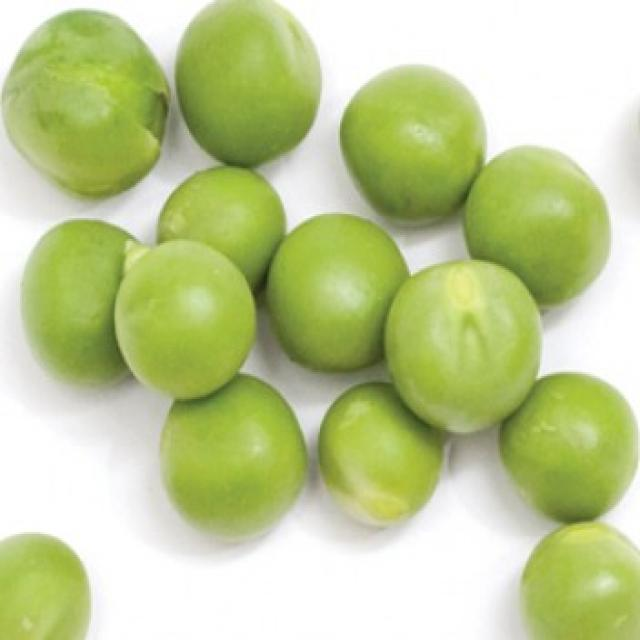pea: (10, 6, 640, 525)
